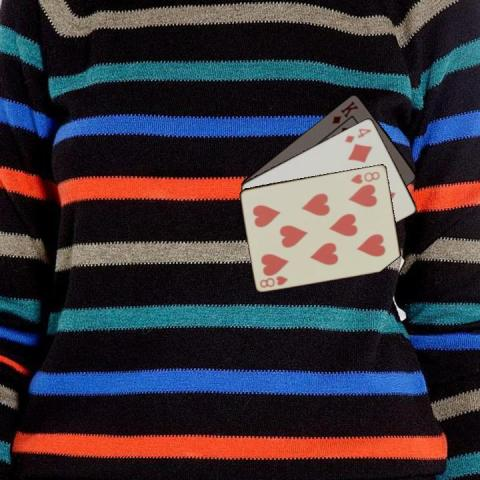4d: (341, 125, 373, 144)
8h: (348, 168, 382, 185), (257, 272, 290, 288)
Kd: (329, 98, 359, 126)
